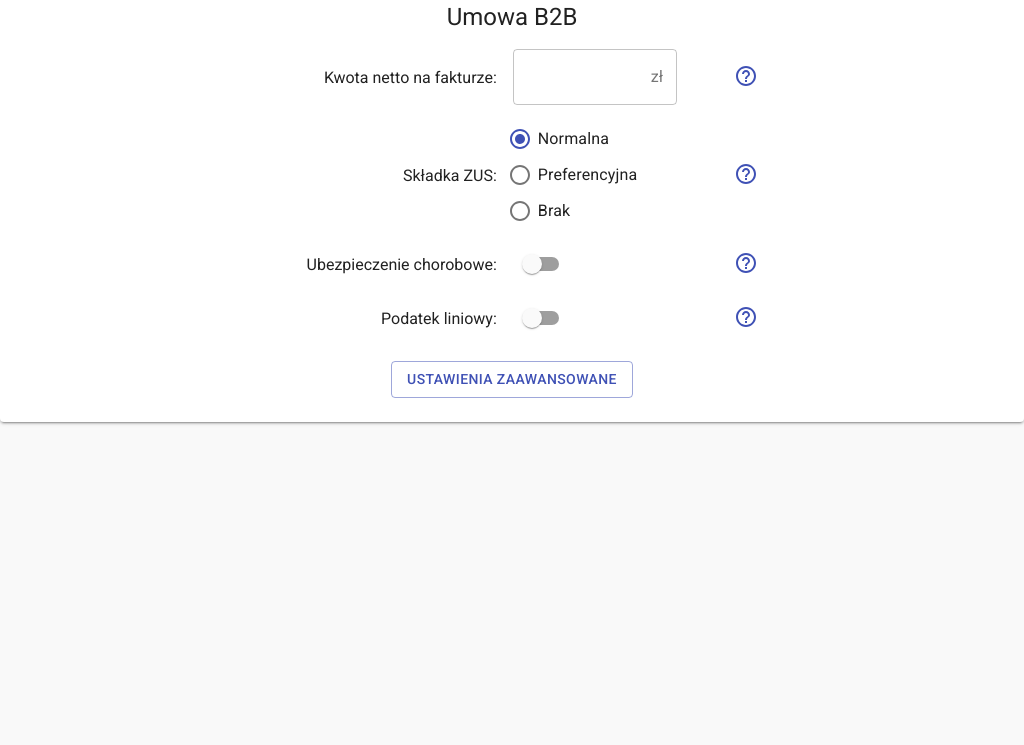
B2B component › calculates result on entry value change
In the field with id "b2bEntryValue": (578, 77) [513,49,643,105], type "5000"
(page scrolled)
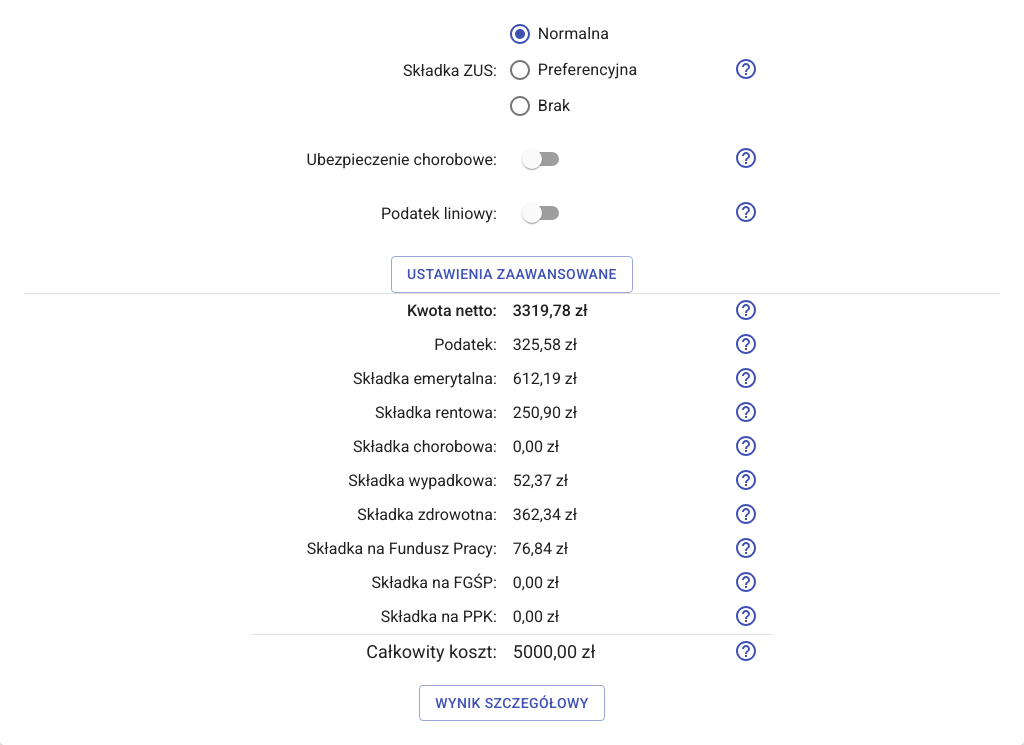
Expected: the text "Wynik" is shown, [435,695,589,711]
